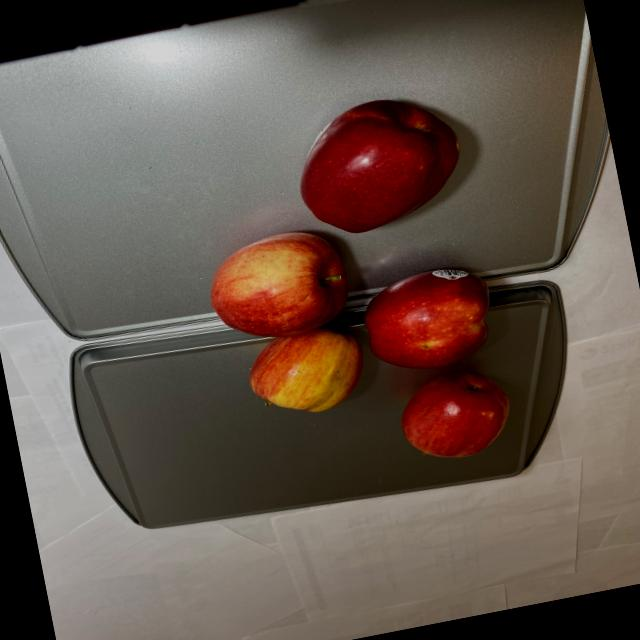apple: (175, 82, 526, 502)
